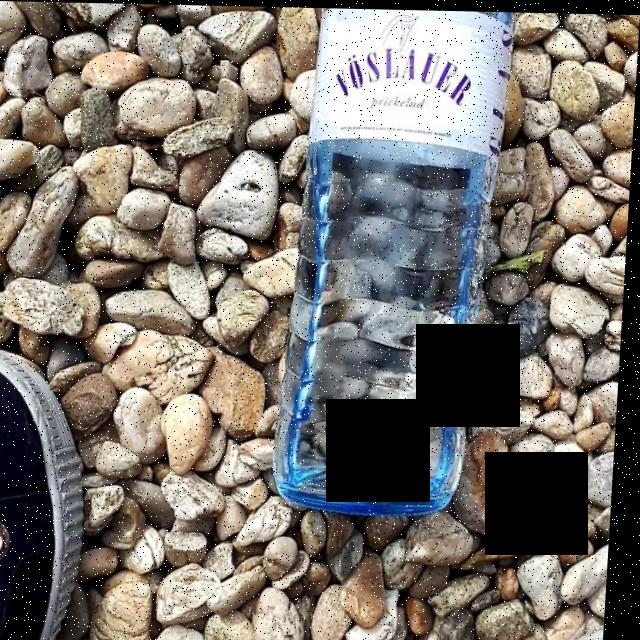water-mineral: (288, 150, 490, 505)
